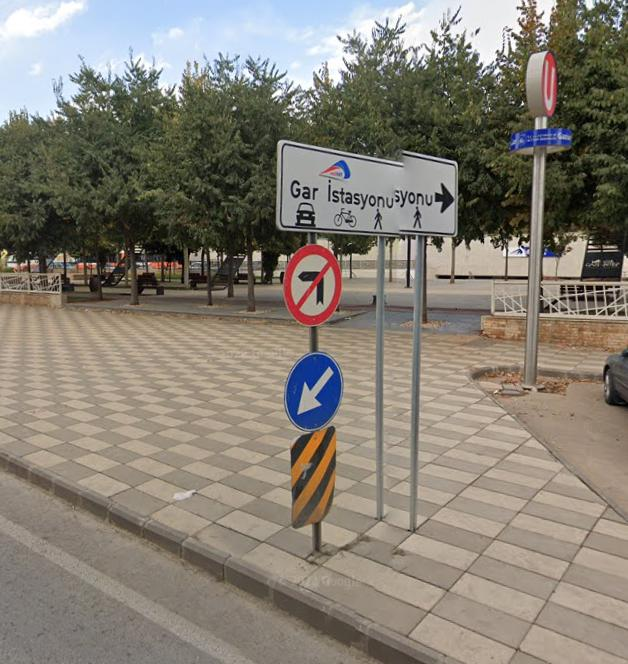leftturnsareforbidden: (287, 246, 341, 323)
